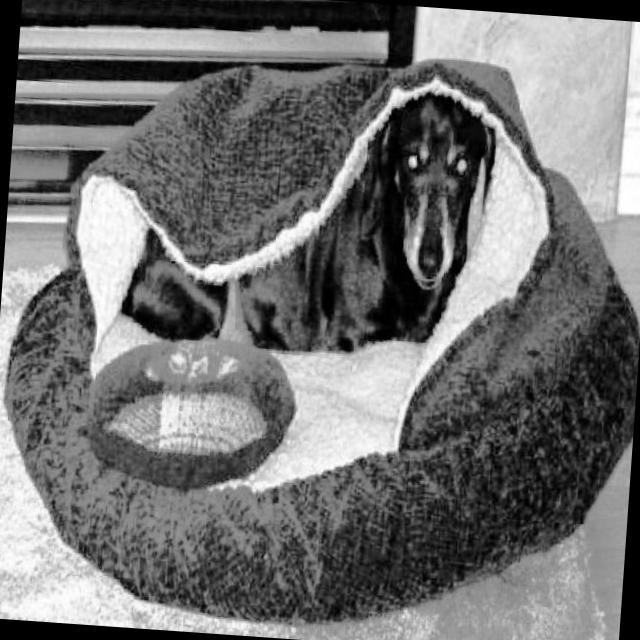Dog: (114, 71, 503, 382)
